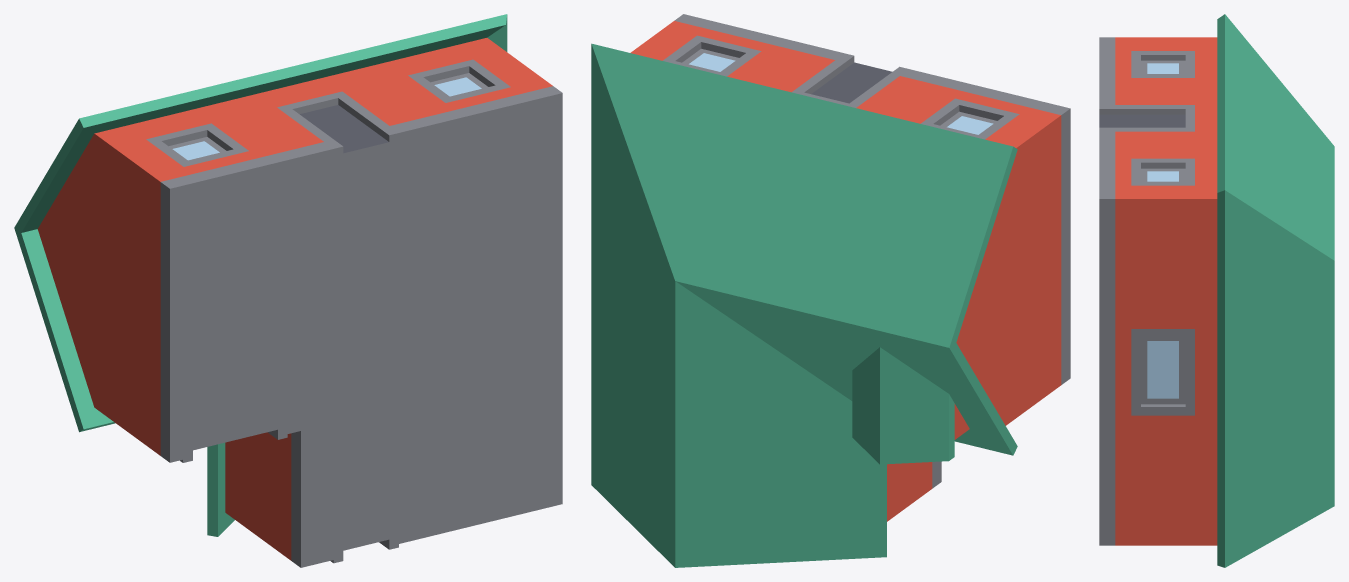
File: house_type05.001.obj
3 renders of one model, left to right at view 1: azimuth 30°, elevation 25°; view 2: azimuth 150°, elevation 25°; view 3: azimuth 270°, elevation 25°, orthographic. The views are drawn at different scales.
Parts seen in each view (by area): view 1: house_type05.001; view 2: house_type05.001; view 3: house_type05.001.
Part boxes in pixels (x1,y1,x2,y2): house_type05.001: (14,14,562,567); house_type05.001: (591,14,1070,567); house_type05.001: (1099,14,1334,567).
Bounding box in the file's own units: 1.31 × 1.31 × 0.7375.
